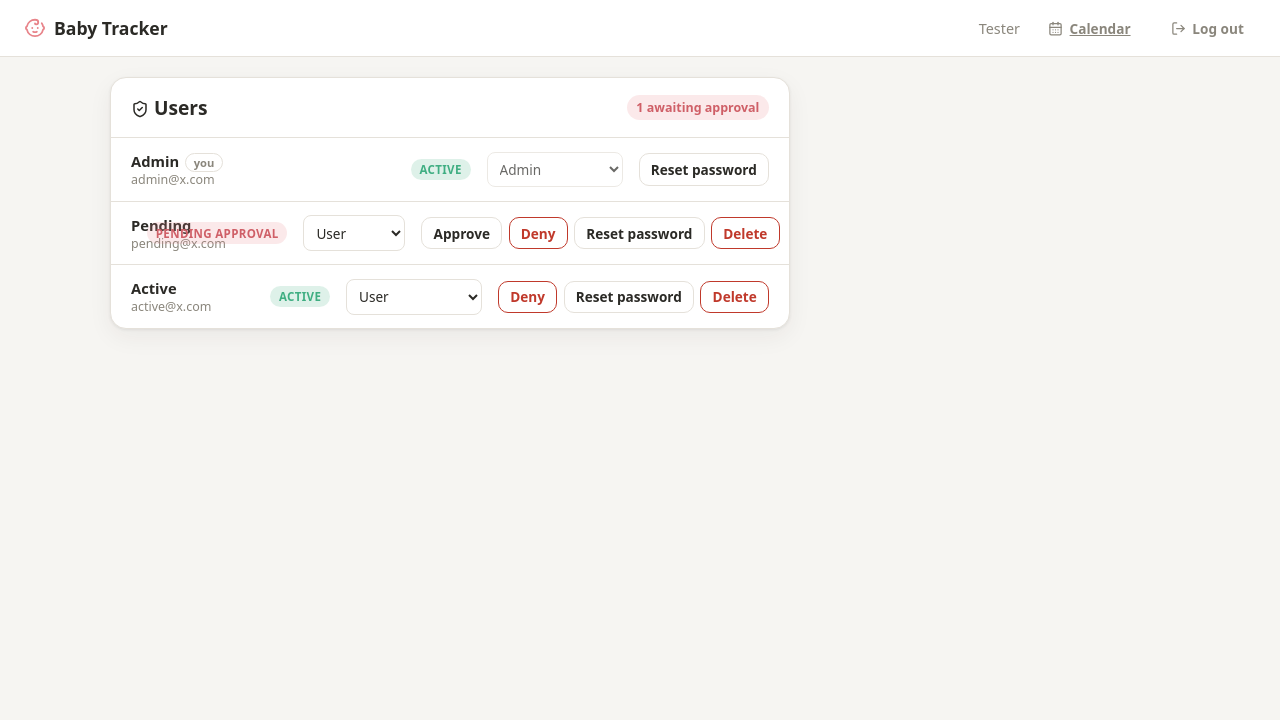
Scenario: AdminPage › closes reset password modal on cancel
The width and height of the screenshot is (1280, 720).
Click the button "Reset password" in the row of "Pending approval" at (639, 233), box 574,217 -> 705,249
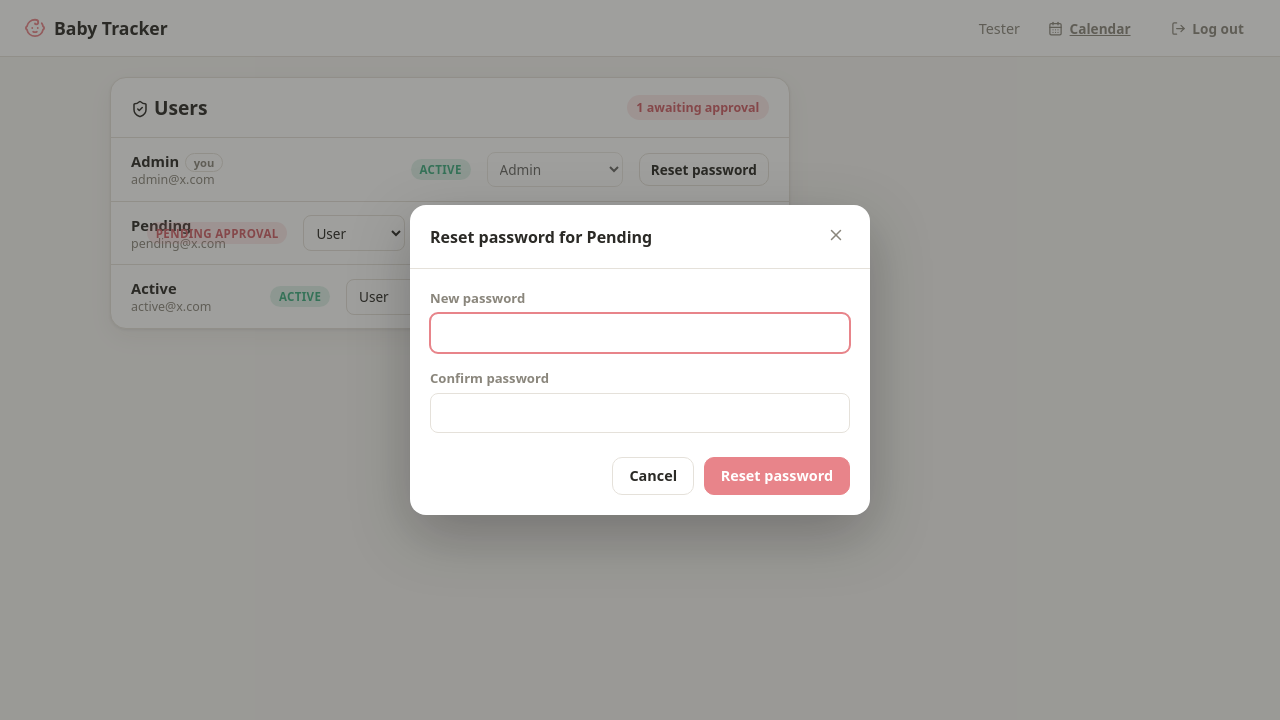
expect the text "Reset password for Pending" is shown: met, box 430,226 -> 652,248
Click the button "Cancel" at (653, 476), box 612,457 -> 694,495
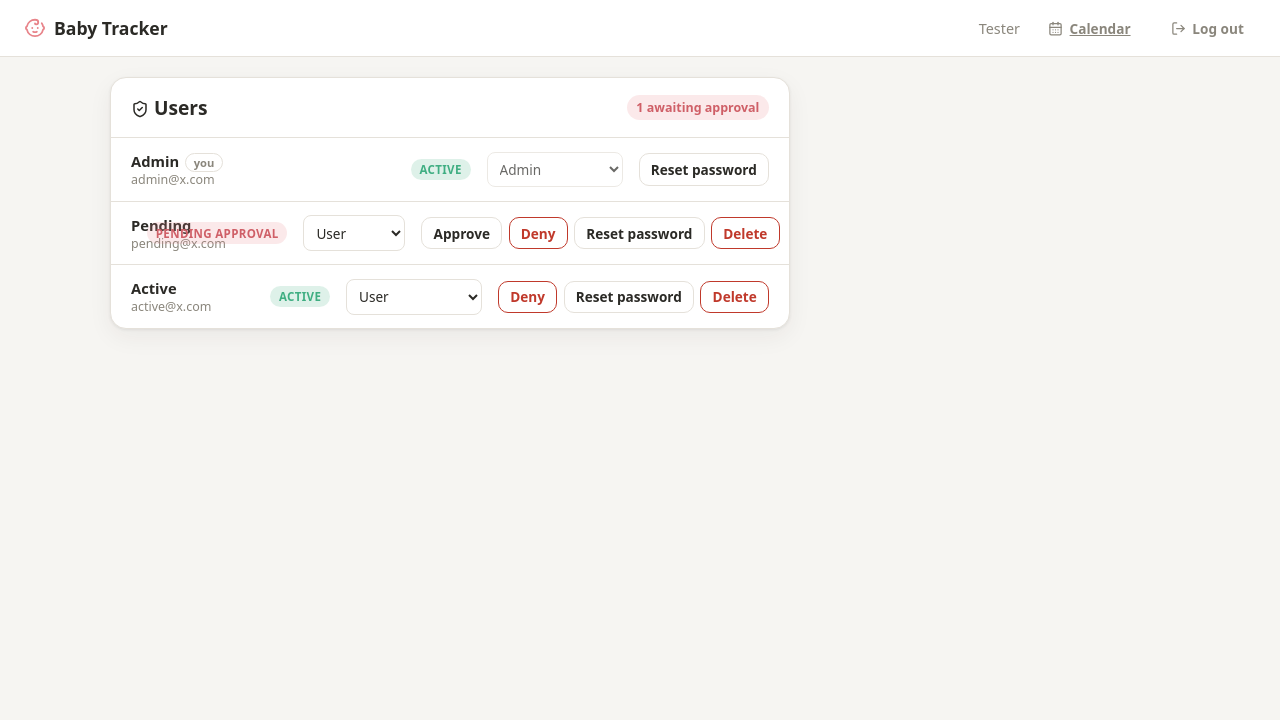
expect the text "Reset password for Pending" is gone: met
